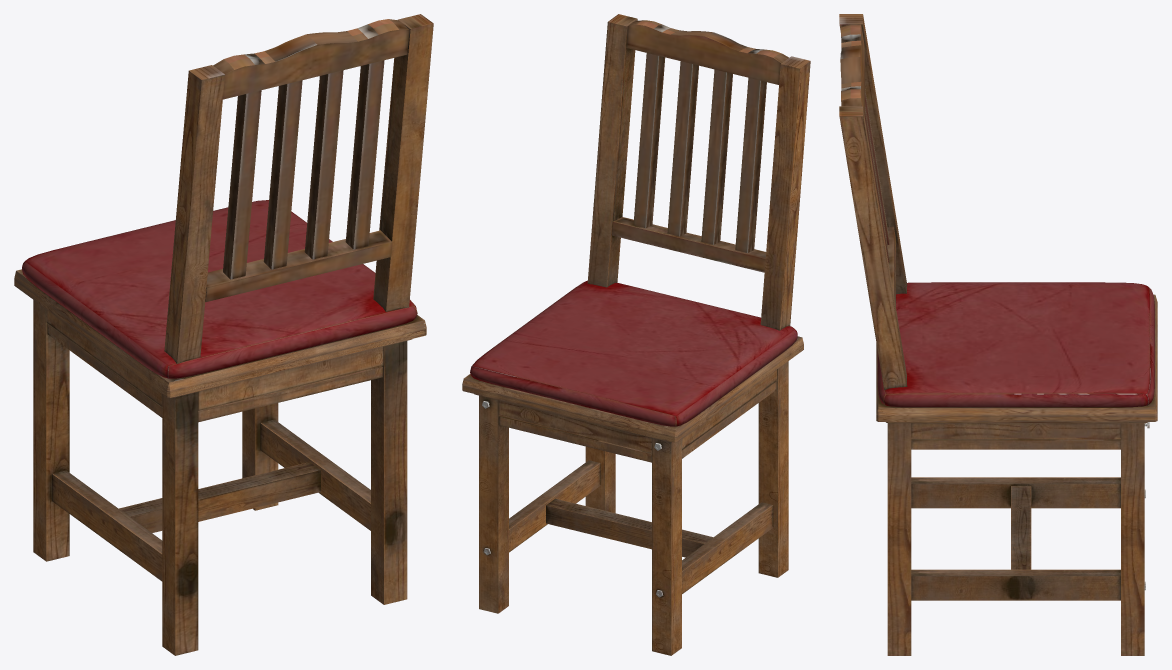
Rendered from chair 2.glb.
3 views of the same model, side by side, from view 1: azimuth 30°, elevation 25°; view 2: azimuth 150°, elevation 25°; view 3: azimuth 270°, elevation 25° (orthographic). The views are drawn at different scales.
Parts seen in each view (by area): view 1: Untitled; view 2: Untitled; view 3: Untitled.
Boxes of the visible parts, x1=… form: Untitled: x1=14, y1=14, x2=433, y2=655; Untitled: x1=462, y1=14, x2=810, y2=655; Untitled: x1=839, y1=14, x2=1157, y2=655.
Bounding box in the file's own units: 1.6 × 3.53 × 1.86.
1 material, 1 textured.
